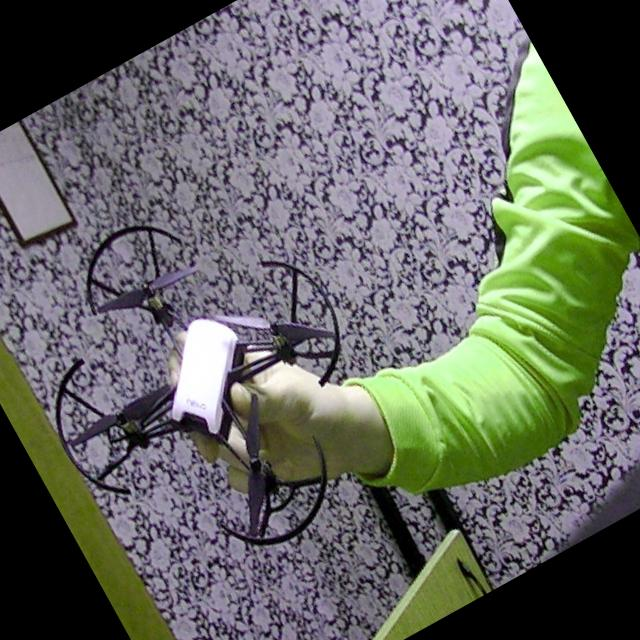drone: (0, 139, 433, 617)
